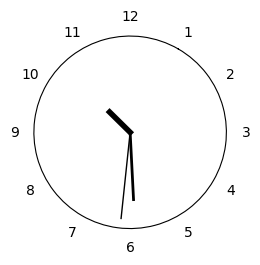12: (122, 9, 139, 22)
circle: (34, 36, 227, 229)
hours: (105, 108, 134, 134)
minutes: (130, 143, 136, 201)
seconds: (120, 136, 129, 219)
